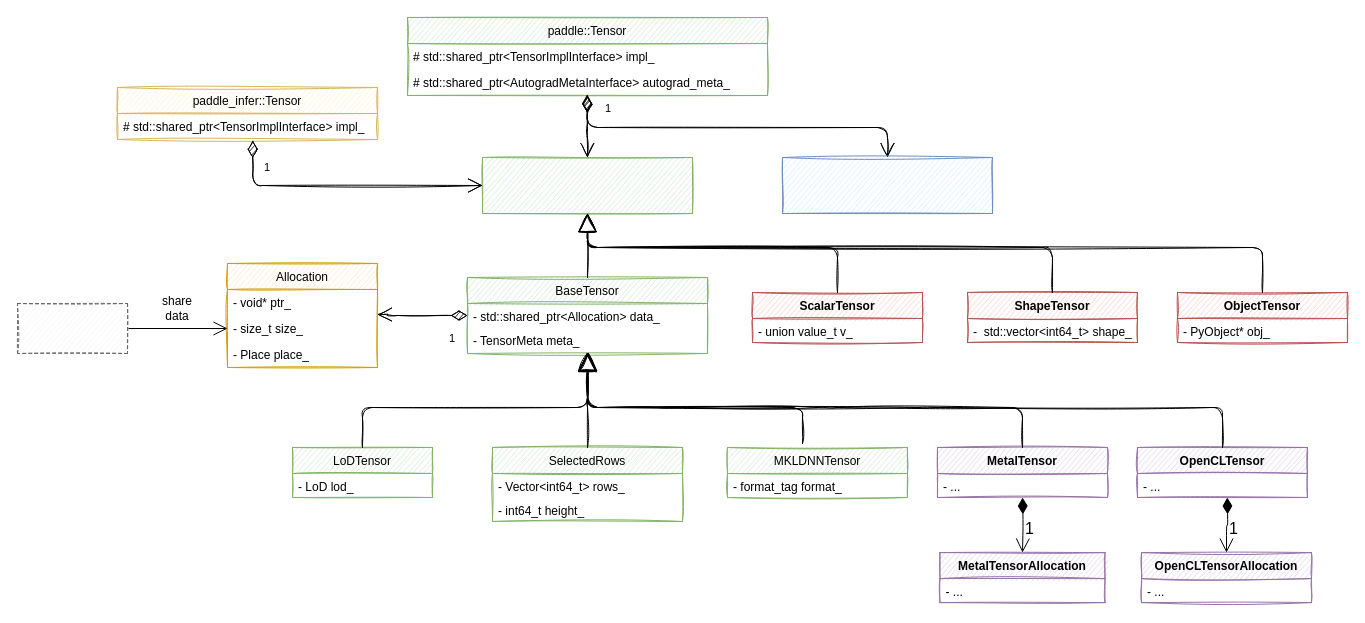
Image size: 1365x623. Some labels were removed from this diagram. Each missing label, with the centre of its shape:
Other System Tensor: point 72,328
«interface» AutogradMetaInterface: point 887,185
«interface» TensorImplInterface: point 587,185
